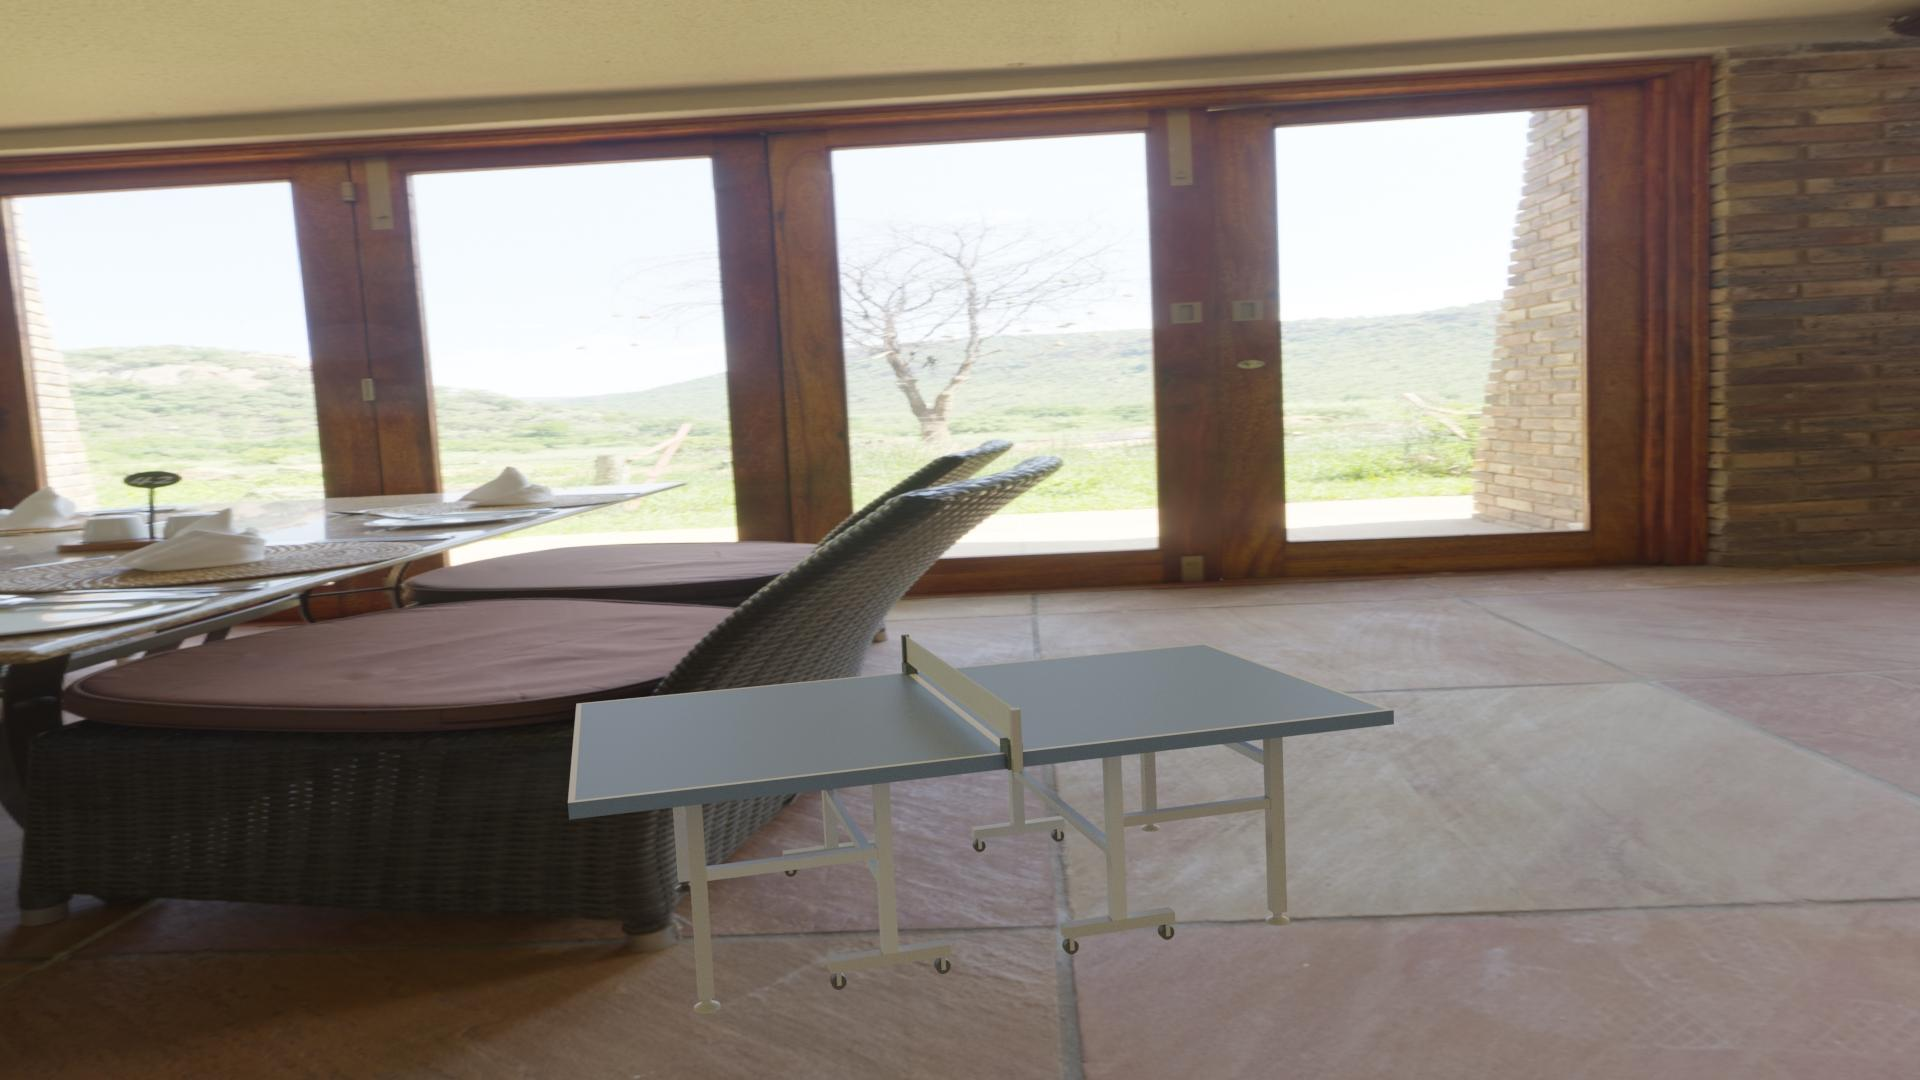table: (575, 645, 1386, 800)
